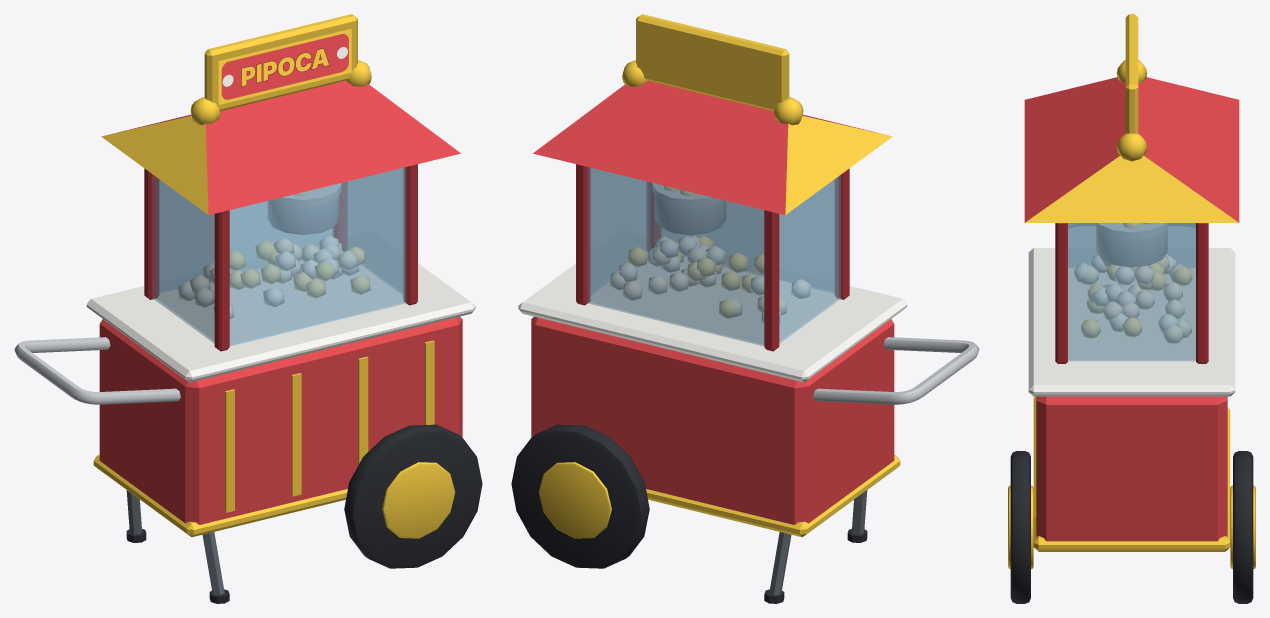
Rendered from carrinho_pipoca.glb.
The picture shows the model from 3 angles, left to right: view 1: azimuth 30°, elevation 25°; view 2: azimuth 150°, elevation 25°; view 3: azimuth 270°, elevation 25°; orthographic projection.
Visible parts, largest first — view 1: carrinho_pipoca, panela; view 2: carrinho_pipoca, panela; view 3: carrinho_pipoca, panela.
Boxes of the visible parts, x1,y1,x2,y2 form: carrinho_pipoca: (14, 14, 482, 603); panela: (268, 183, 341, 234); carrinho_pipoca: (511, 14, 979, 603); panela: (652, 183, 725, 234); carrinho_pipoca: (1008, 14, 1255, 603); panela: (1094, 223, 1169, 266).
Bounding box in the file's own units: 1.72 × 2.2 × 0.97.
Materials: 4 (2 with a texture image).
